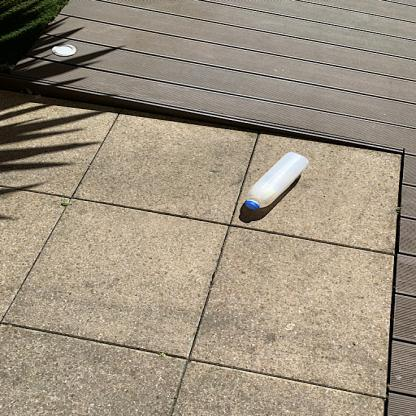trash: (243, 152, 314, 213)
